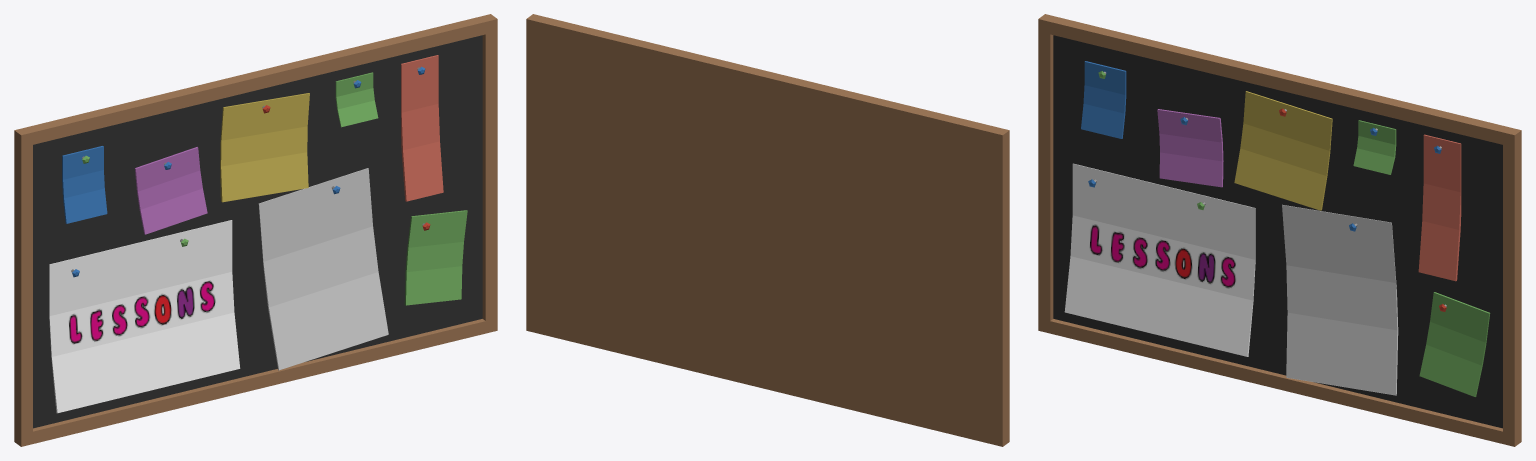
The model's file is Int_NotesBoard02_1.fbx.
3 views of the same model, side by side, from view 1: azimuth 30°, elevation 25°; view 2: azimuth 150°, elevation 25°; view 3: azimuth 330°, elevation 25° (orthographic).
Visible parts, largest first — view 1: Int_NotesBoard02_1; view 2: Int_NotesBoard02_1; view 3: Int_NotesBoard02_1.
Boxes of the visible parts, x1,y1,x2,y2 form: Int_NotesBoard02_1: (14,14,497,446); Int_NotesBoard02_1: (526,14,1009,446); Int_NotesBoard02_1: (1038,14,1521,446).
Size of what is drawn, in the model's own units: 200 by 8.65 by 125.
